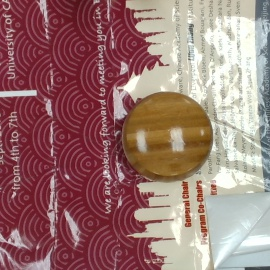chess: (122, 90, 213, 187)
